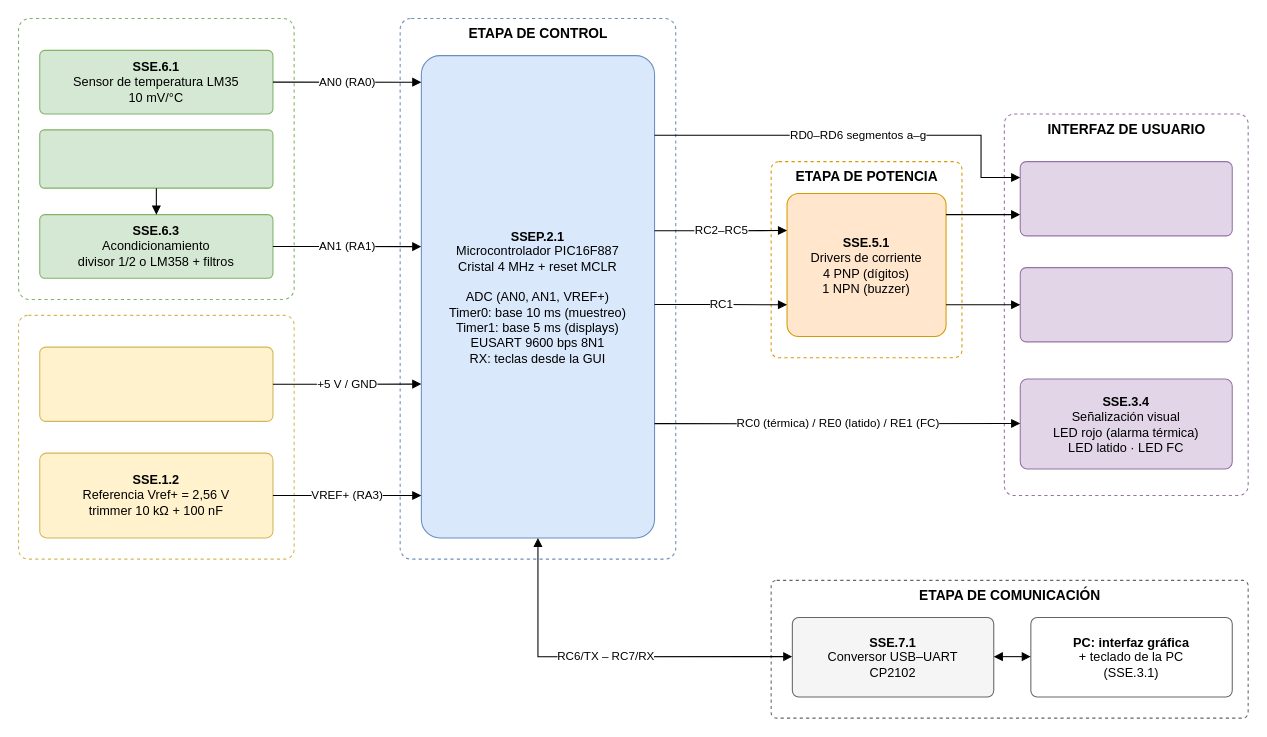
Image size: 1267x737. Some labels were removed from this diagram. The shapes that lost their labels are listed below. From the top down, each one's box as (x1, y1, x2, y2) in pixels, then its label:
(17, 17, 294, 299): ETAPA DE ADQUISICIÓN
(39, 129, 273, 188): SSE.6.2 Sensor de pulso óptico (PPG)
(1019, 161, 1232, 236): SSE.3.2 Display 7 segmentos x4 multiplexado
(1019, 267, 1232, 342): SSE.3.3 Alarma acústica buzzer activo
(39, 346, 273, 421): SSE.1.1 Alimentación +5 V (USB vía CP2102)
(17, 314, 294, 559): ETAPA DE ALIMENTACIÓN
